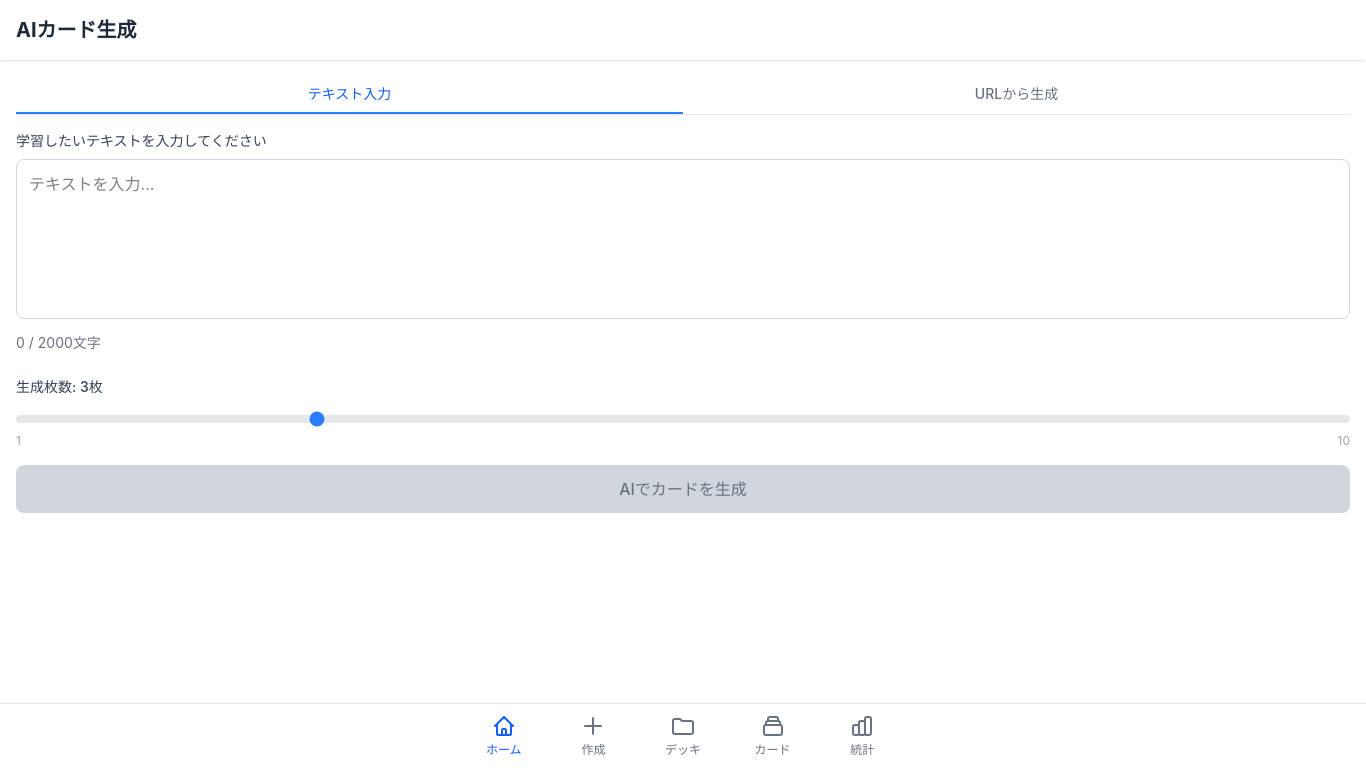
Test: GeneratePage › テストケース3: 生成中のUI状態 › 生成中はローディング表示が出る
Type "テスト用のテキストです" into the text box with test id "input-text".
click(683, 239); type("テスト用のテキストです")  # box [16,159,1350,319]
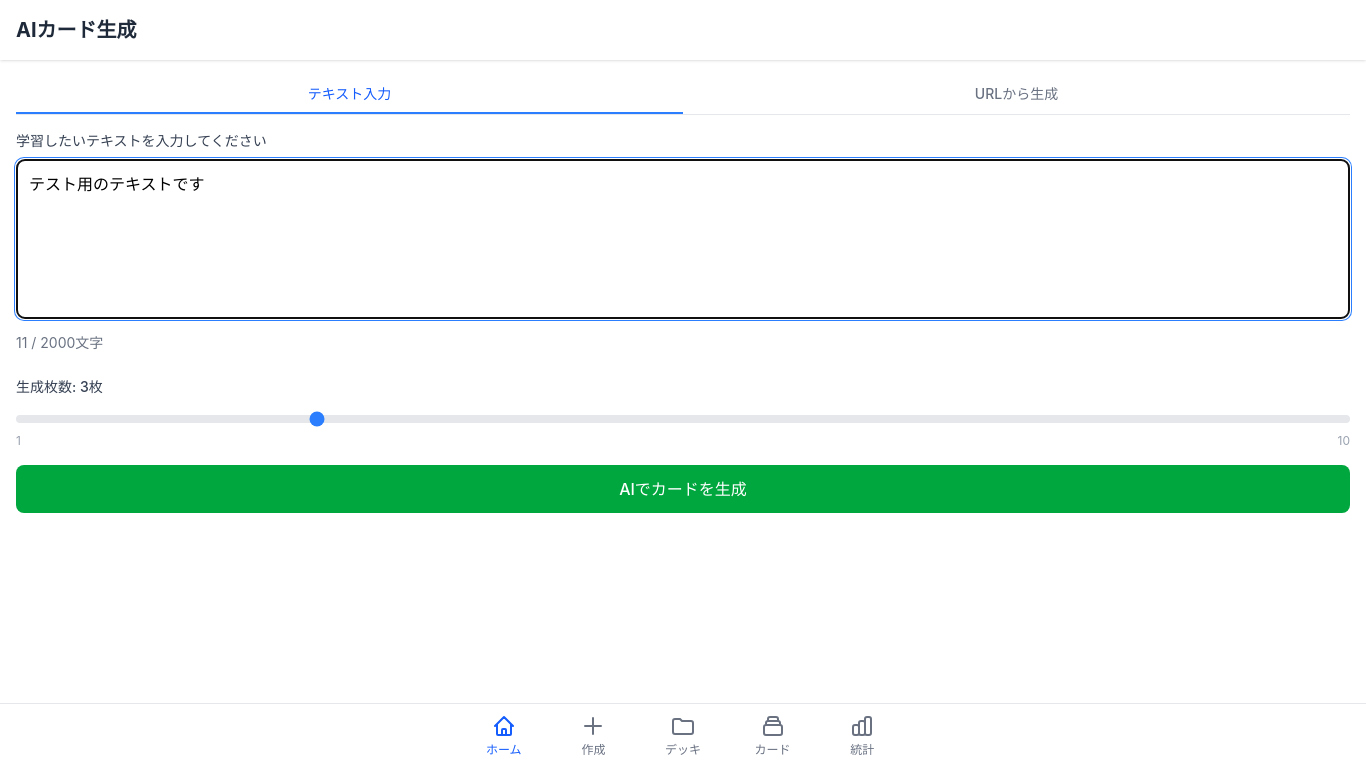
Click the button with test id "generate-button".
click(683, 489)  # box [16,465,1350,513]
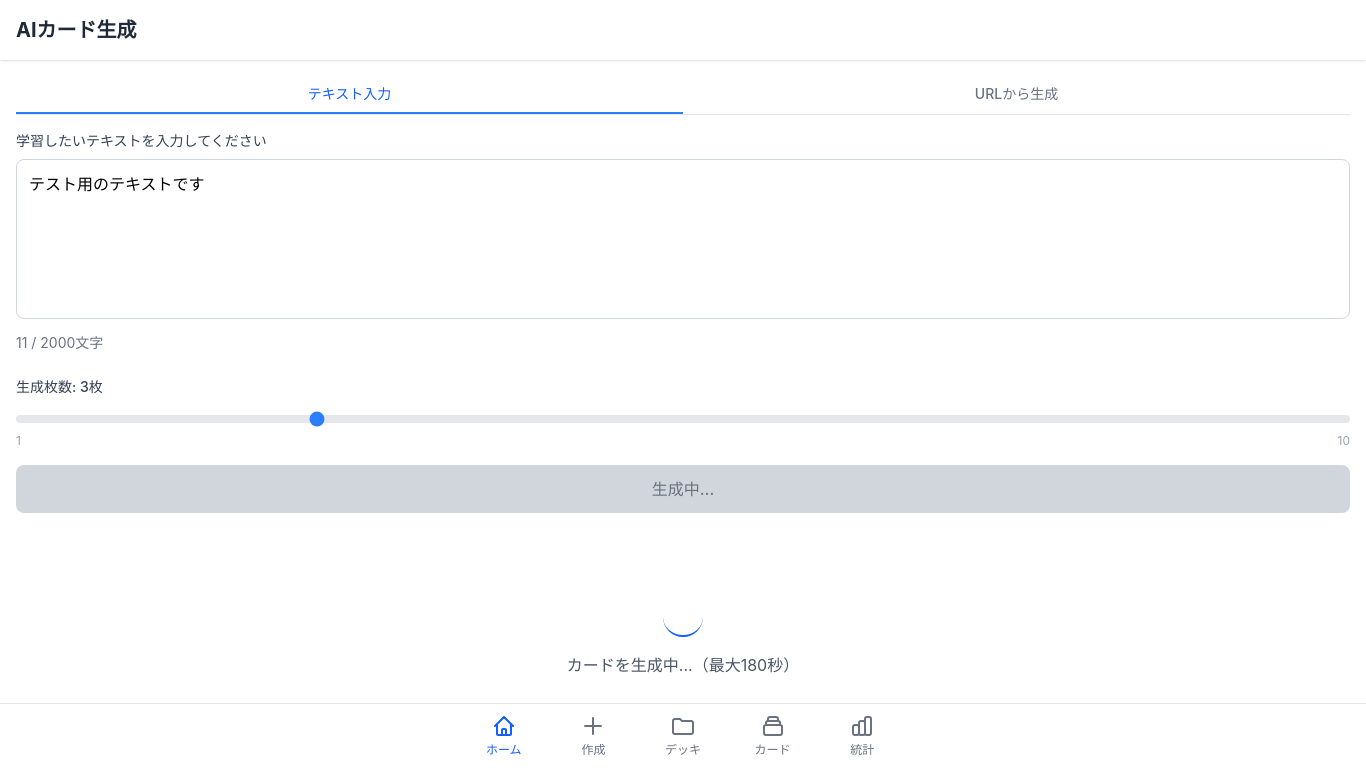
Result: the element with test id "loading" is shown at [567,597,799,675]
